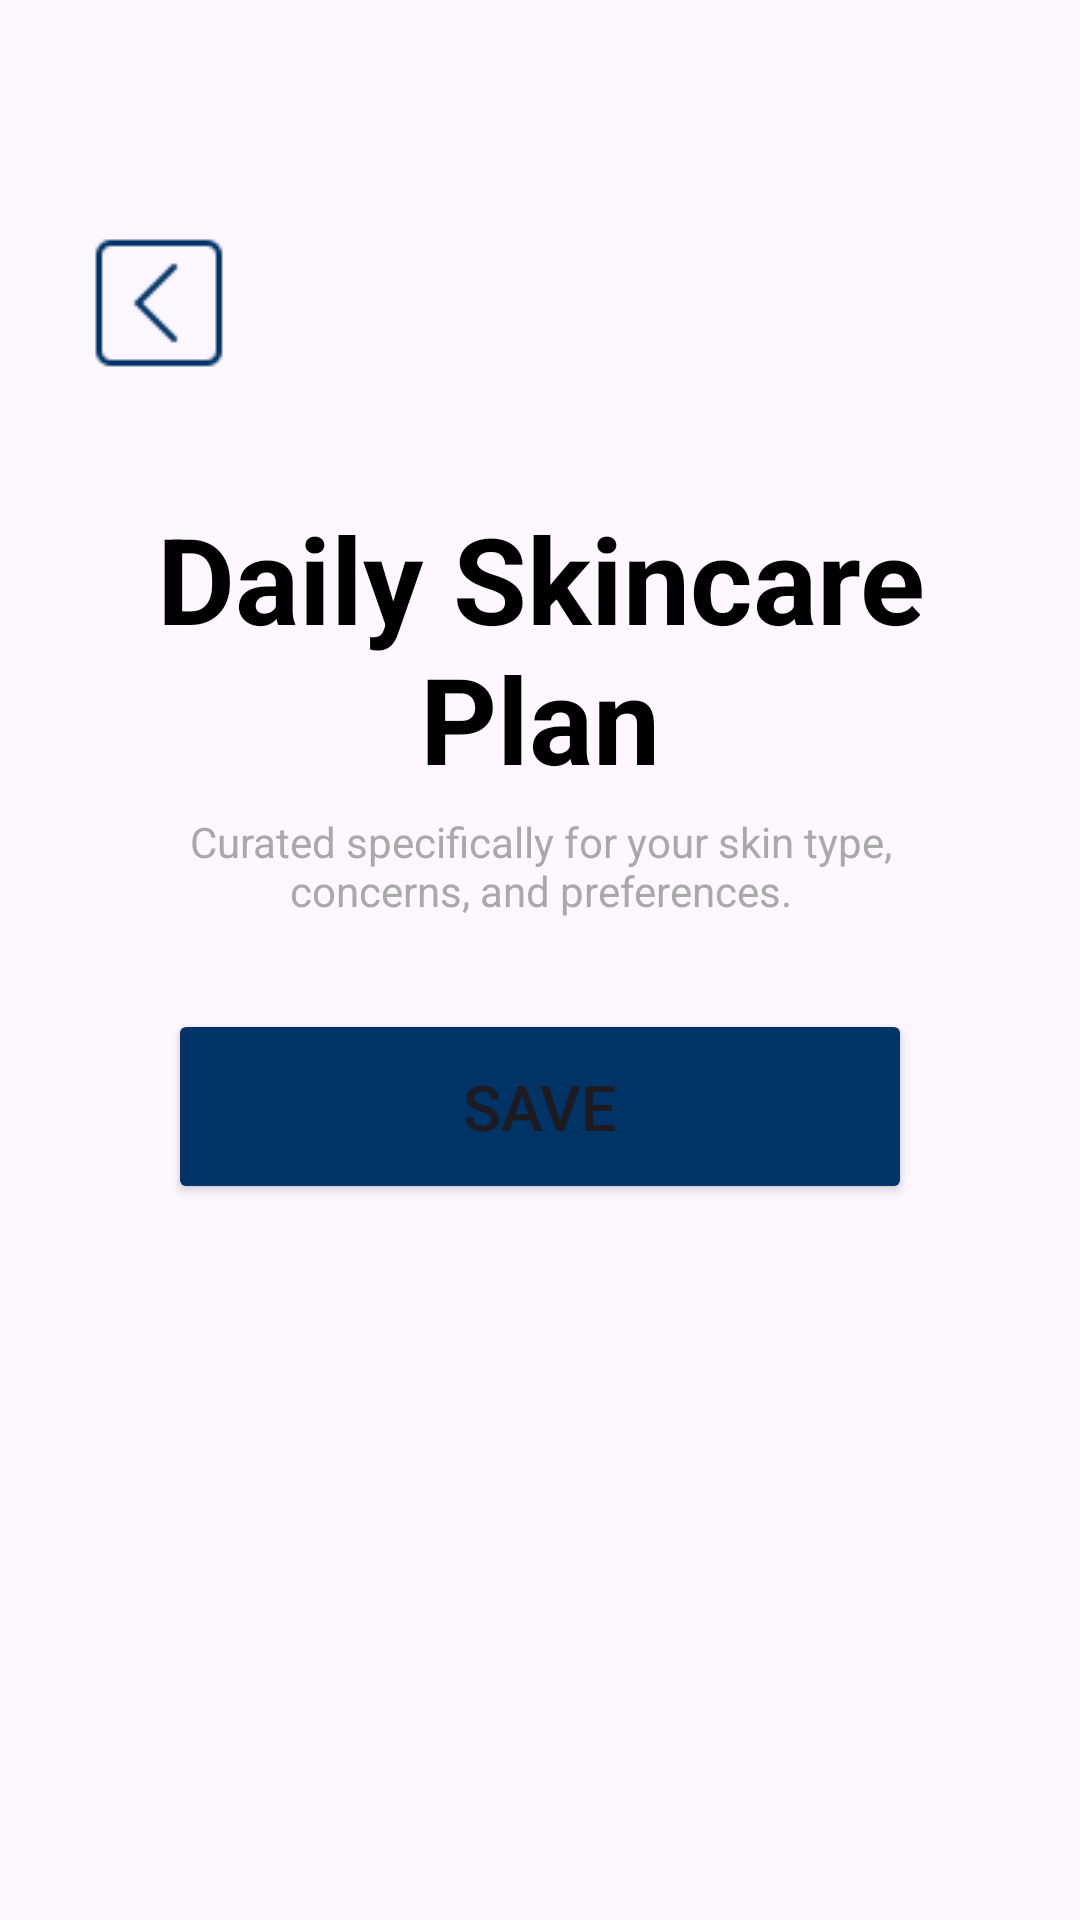

Screen size 1080w x 1920h. Icon name, then its center in pixels as point (x, y):
back button: point (159, 303)
